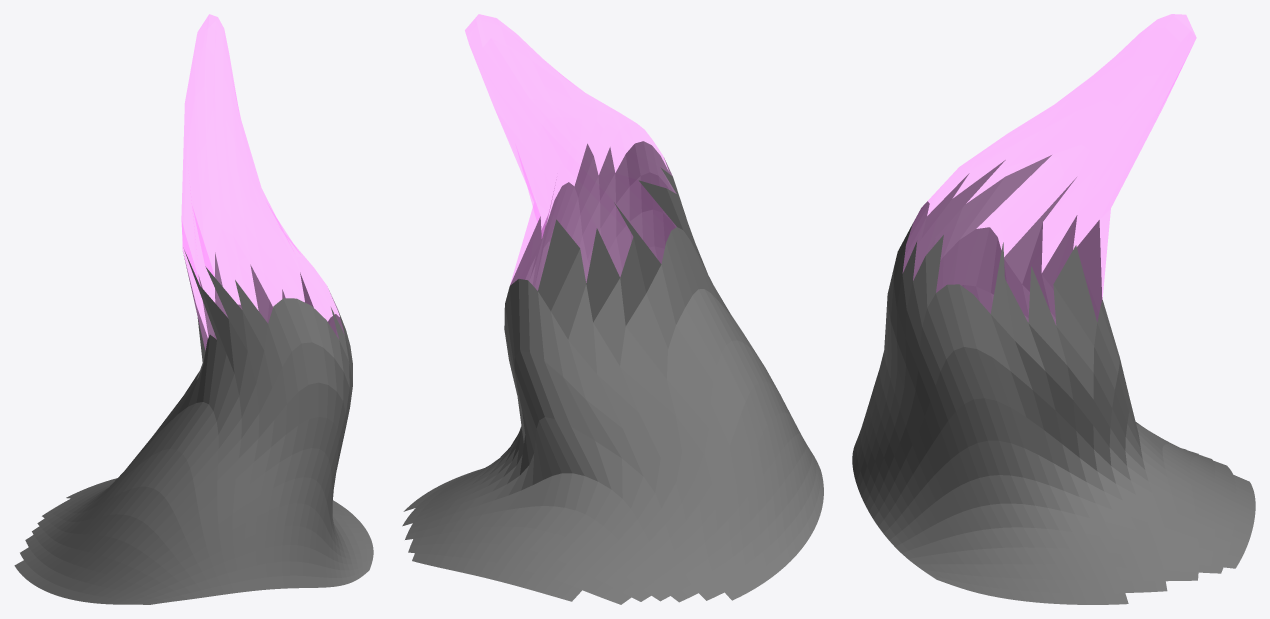
The model's file is CaveThing4.fbx.
The picture shows the model from 3 angles, left to right: view 1: azimuth 30°, elevation 25°; view 2: azimuth 150°, elevation 25°; view 3: azimuth 270°, elevation 25°; orthographic projection. The views are drawn at different scales.
Visible parts, largest first — view 1: CaveThing4; view 2: CaveThing4; view 3: CaveThing4.
Boxes of the visible parts, x1,y1,x2,y2 form: CaveThing4: (14,14,373,604); CaveThing4: (402,14,823,604); CaveThing4: (852,14,1255,604).
Bounding box in the file's own units: 187 × 274 × 185.
